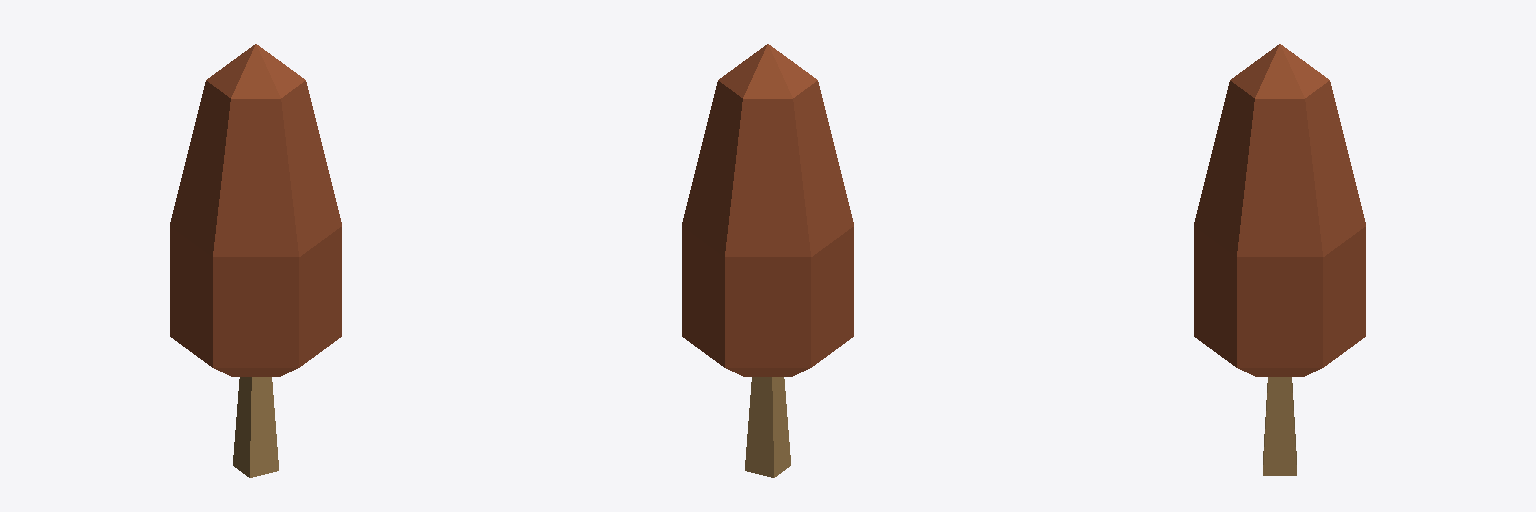
3 views of the same model, side by side, from view 1: azimuth 30°, elevation 25°; view 2: azimuth 150°, elevation 25°; view 3: azimuth 270°, elevation 25° (orthographic).
Visible parts, largest first — view 1: Mesh1 Oak_Fall Model; view 2: Mesh1 Oak_Fall Model; view 3: Mesh1 Oak_Fall Model.
Part boxes in pixels (left/top/right/bottom): Mesh1 Oak_Fall Model: left=170, top=44, right=341, bottom=477; Mesh1 Oak_Fall Model: left=682, top=44, right=853, bottom=477; Mesh1 Oak_Fall Model: left=1194, top=44, right=1365, bottom=475.
Size of the model in its own units: 1.58 by 4.93 by 1.82.
1 materials, 1 textured.